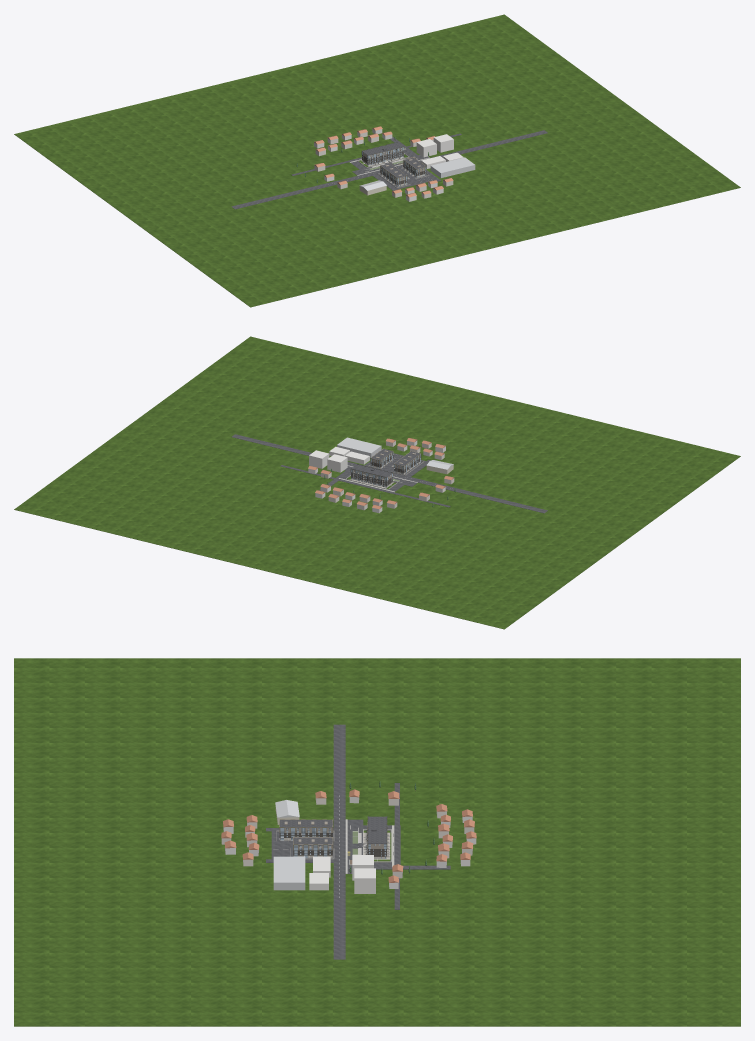
Rendered from mocire_h.glb.
The picture shows the model from 3 angles, top to bottom: view 1: azimuth 30°, elevation 25°; view 2: azimuth 150°, elevation 25°; view 3: azimuth 270°, elevation 25°; orthographic projection. The views are drawn at different scales.
Parts seen in each view (by area): view 1: B00__L00__NONE__site__001, B00__L00__NONE__site__002, B00__L00__NONE__site__018, B00__L00__NONE__site__020, B00__L00__NONE__site__019, B00__L00__NONE__site__017; view 2: B00__L00__NONE__site__001, B00__L00__NONE__site__002, B00__L00__NONE__site__018, B00__L00__NONE__site__020, B00__L00__NONE__site__019, B00__L00__NONE__site__017; view 3: B00__L00__NONE__site__001, B00__L00__NONE__site__002, B00__L00__NONE__site__018, B00__L00__NONE__site__020, B00__L00__NONE__site__019, B00__L00__NONE__site__017, B02__L00__NONE__roof__002.
Part boxes in pixels (<box>): B00__L00__NONE__site__001: <box>14,14,740,307</box>; B00__L00__NONE__site__002: <box>231,130,547,209</box>; B00__L00__NONE__site__018: <box>314,129,463,201</box>; B00__L00__NONE__site__020: <box>314,126,453,197</box>; B00__L00__NONE__site__019: <box>359,157,475,190</box>; B00__L00__NONE__site__017: <box>314,132,453,198</box>; B00__L00__NONE__site__001: <box>14,336,740,629</box>; B00__L00__NONE__site__002: <box>232,434,547,513</box>; B00__L00__NONE__site__018: <box>308,440,445,513</box>; B00__L00__NONE__site__020: <box>308,438,453,509</box>; B00__L00__NONE__site__019: <box>337,437,453,469</box>; B00__L00__NONE__site__017: <box>321,441,454,510</box>; B00__L00__NONE__site__001: <box>14,658,740,1026</box>; B00__L00__NONE__site__002: <box>266,724,450,959</box>; B00__L00__NONE__site__018: <box>223,797,476,893</box>; B00__L00__NONE__site__020: <box>221,789,476,882</box>; B00__L00__NONE__site__019: <box>273,800,305,890</box>; B00__L00__NONE__site__017: <box>221,797,474,878</box>; B02__L00__NONE__roof__002: <box>280,820,332,845</box>.
Size of the model in its own units: 885 by 19.85 by 739.
30 materials, 10 textured.
